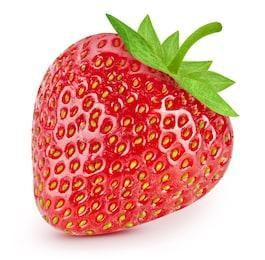Fresa: (27, 25, 241, 240)
